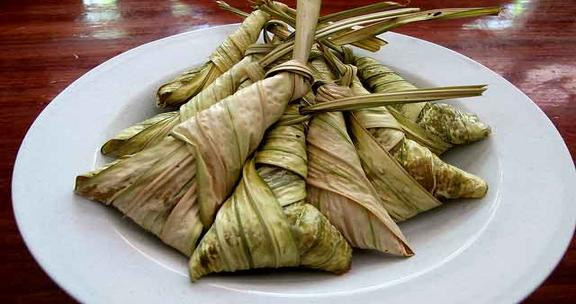kanomtom: (75, 40, 317, 273), (178, 69, 352, 288), (280, 60, 431, 267)
